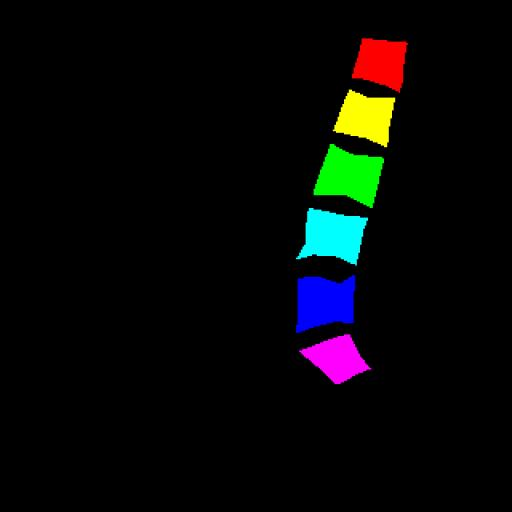L1: (352, 38, 407, 92)
L2: (334, 90, 395, 146)
L3: (314, 144, 384, 208)
L4: (297, 208, 368, 264)
L5: (298, 276, 354, 332)
S1: (300, 334, 371, 384)
